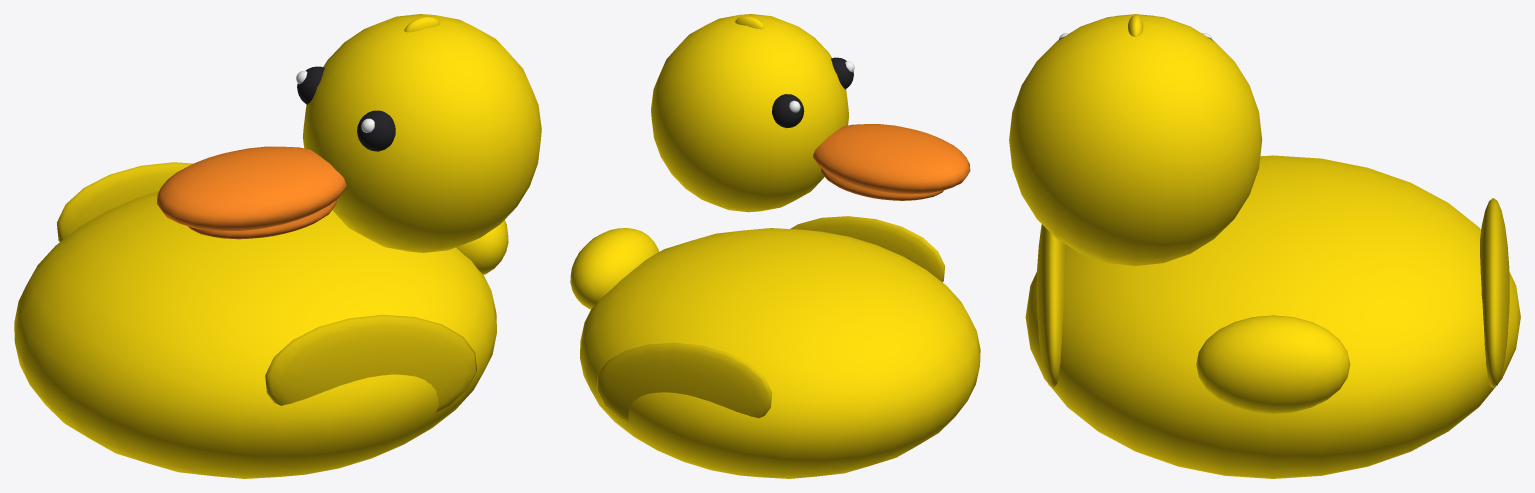
Rendered from duck.fbx.
3 renders of one model, left to right at view 1: azimuth 30°, elevation 25°; view 2: azimuth 150°, elevation 25°; view 3: azimuth 270°, elevation 25°, orthographic. The views are drawn at different scales.
Parts seen in each view (by area): view 1: Giant Rubber Duck; view 2: Giant Rubber Duck; view 3: Giant Rubber Duck.
Boxes of the visible parts, bbox=[...] form: Giant Rubber Duck: bbox=[14, 14, 541, 478]; Giant Rubber Duck: bbox=[570, 14, 980, 478]; Giant Rubber Duck: bbox=[1009, 14, 1520, 478].
Bounding box in the file's own units: 2 × 1.89 × 1.86.
